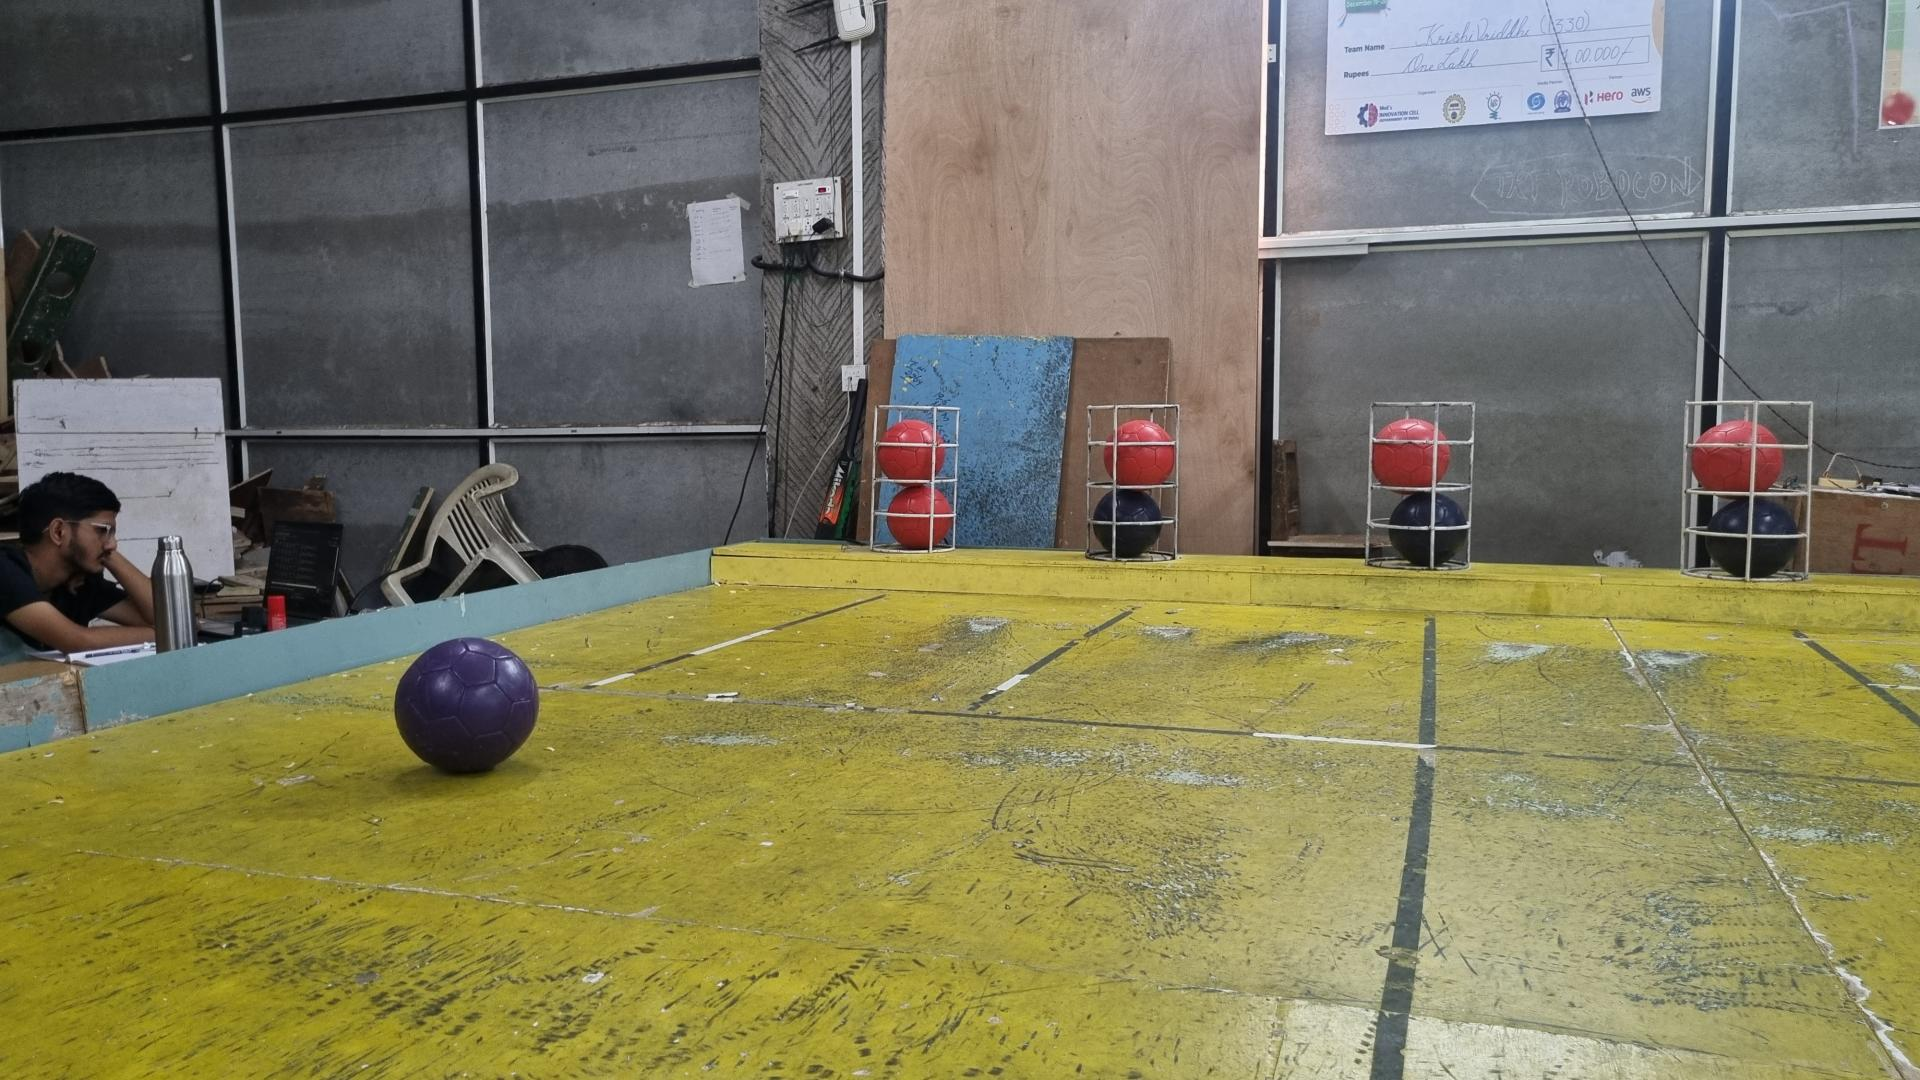dhoka: (1706, 495, 1796, 578), (1387, 491, 1466, 566), (1092, 487, 1163, 558)
laale: (1692, 419, 1782, 493), (1373, 418, 1452, 489), (1102, 421, 1174, 485), (877, 422, 945, 485), (889, 484, 952, 547)
